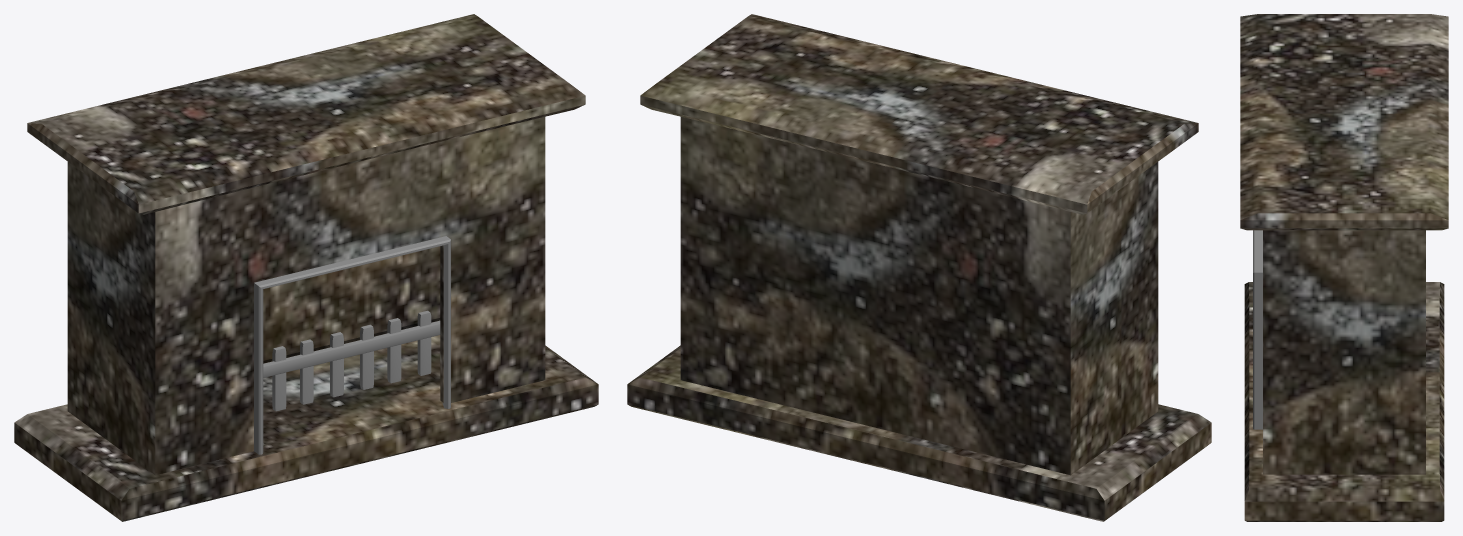
File: Semineu.fbx
The picture shows the model from 3 angles, left to right: view 1: azimuth 30°, elevation 25°; view 2: azimuth 150°, elevation 25°; view 3: azimuth 270°, elevation 25°; orthographic projection. The views are drawn at different scales.
Visible parts, largest first — view 1: Semineu.003; view 2: Semineu.003; view 3: Semineu.003.
Part boxes in pixels (x1=…): Semineu.003: x1=14, y1=14, x2=598, y2=521; Semineu.003: x1=627, y1=14, x2=1211, y2=521; Semineu.003: x1=1240, y1=14, x2=1448, y2=521.
Bounding box in the file's own units: 88.79 × 57.25 × 35.92.
